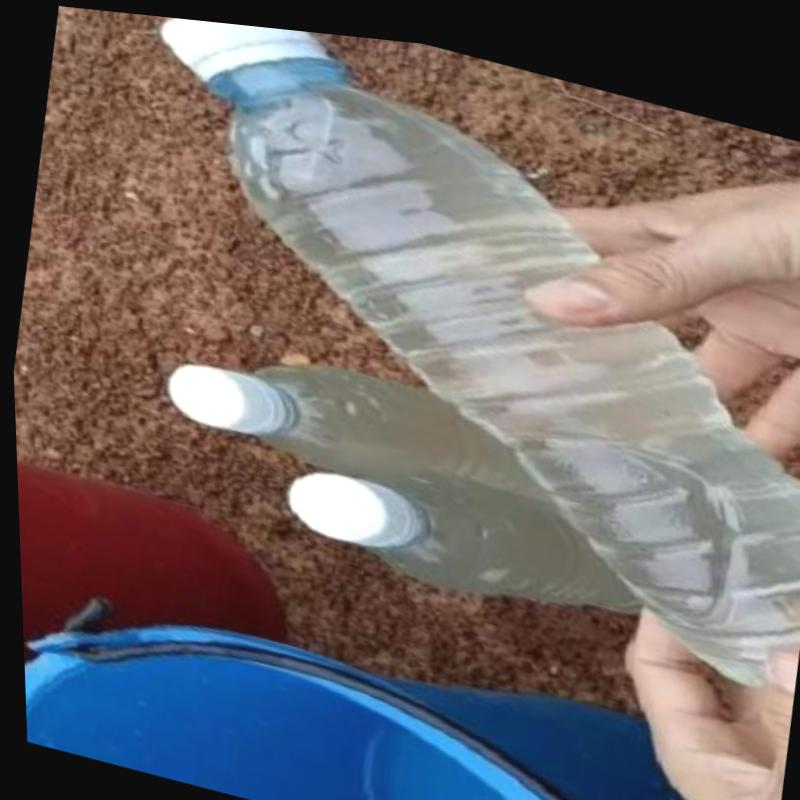botella: (79, 6, 800, 682), (158, 321, 576, 517), (274, 427, 653, 623)
